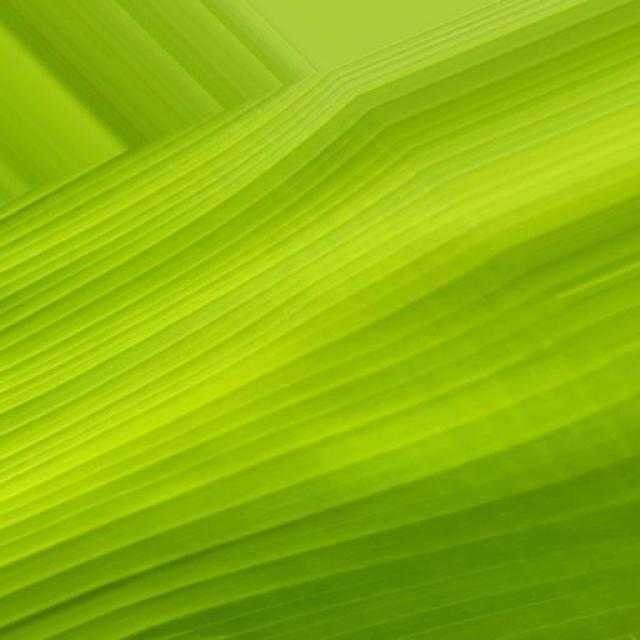Black_leaf_spot: (0, 38, 628, 586)
